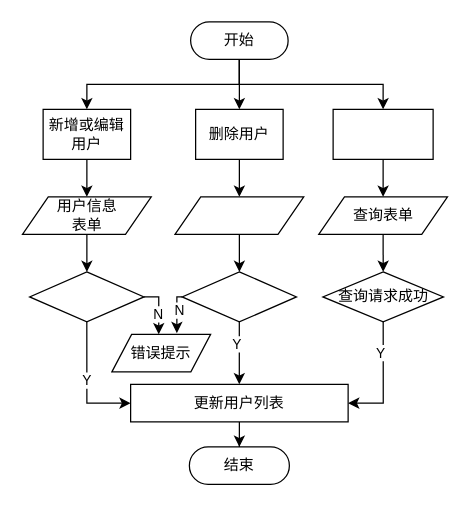
This 469x506 diagram has some shape labels left out. Each missing label, with the centre of its shape:
"修改请求成功" goes at point (86, 296).
"删除请求成功" goes at point (238, 296).
"模糊查询" goes at point (382, 133).
"用户编号" goes at point (239, 215).
